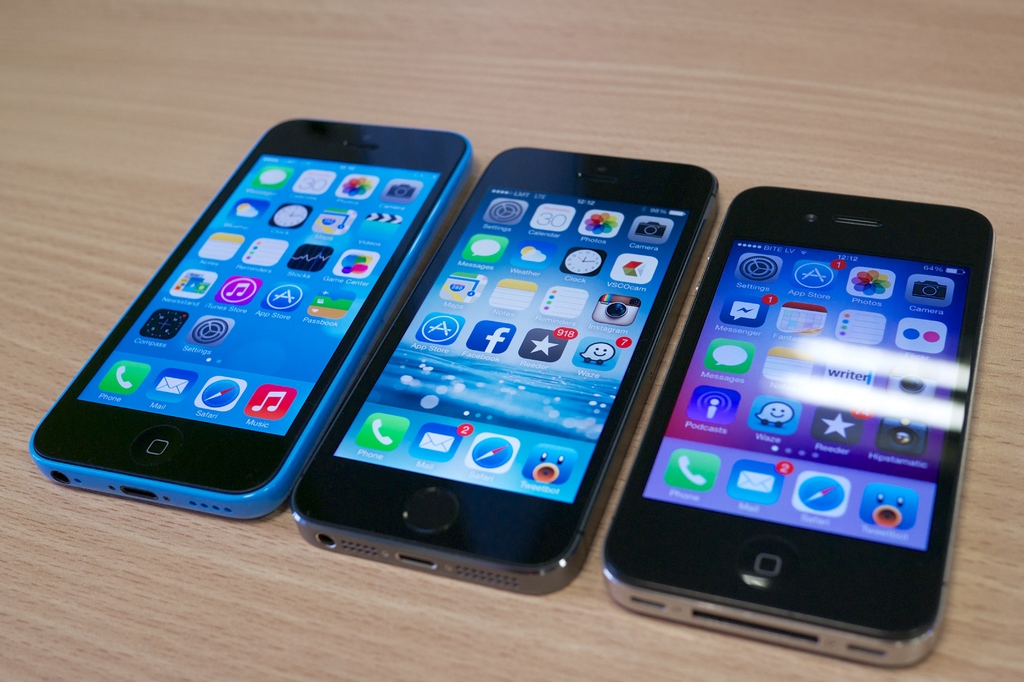mobile phone: (289, 142, 718, 596)
